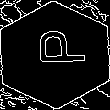P_W: (26, 35, 84, 75)
